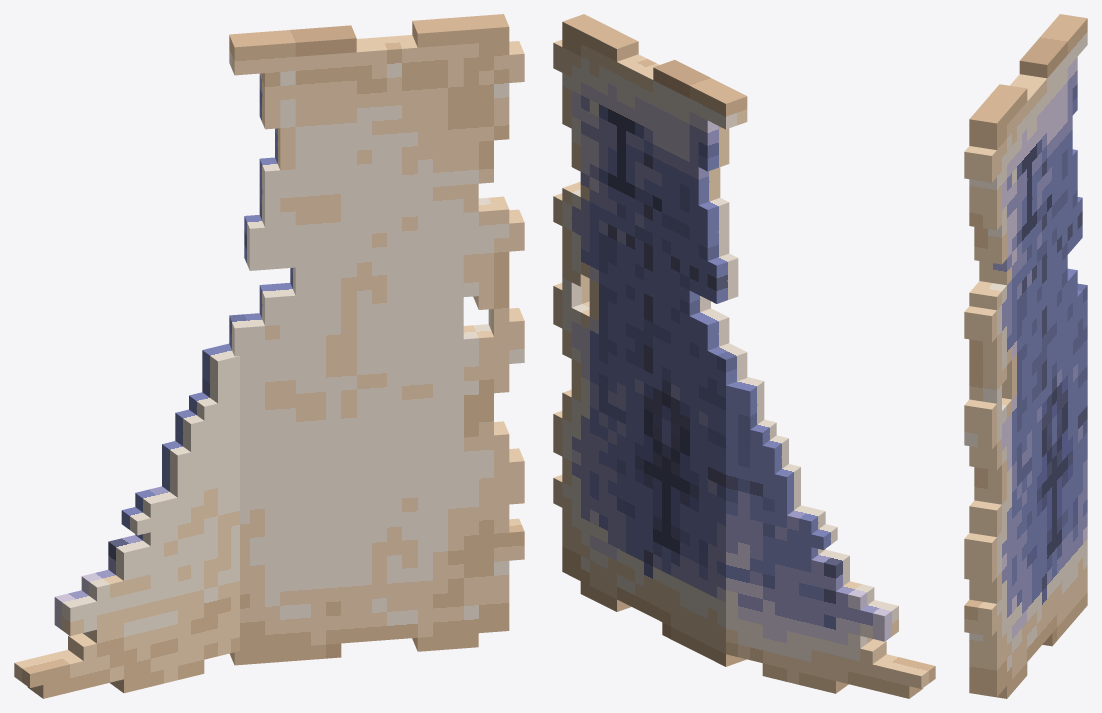
File: lost_page_01A_I.gltf
The picture shows the model from 3 angles, left to right: view 1: azimuth 30°, elevation 25°; view 2: azimuth 150°, elevation 25°; view 3: azimuth 270°, elevation 25°; orthographic projection. The views are drawn at different scales.
Parts seen in each view (by area): view 1: MapRight$$(2)-Local, MapCenter$$(2)-Local; view 2: MapRight$$(2)-Local, MapCenter$$(2)-Local; view 3: MapRight$$(2)-Local.
Part boxes in pixels (<box>): MapRight$$(2)-Local: <box>229,14,524,665</box>; MapCenter$$(2)-Local: <box>14,343,239,698</box>; MapRight$$(2)-Local: <box>553,14,747,666</box>; MapCenter$$(2)-Local: <box>726,377,935,698</box>; MapRight$$(2)-Local: <box>964,14,1087,698</box>.
Size of the model in its own units: 33.85 by 44 by 8.38.
Materials: 2 (2 with a texture image).
